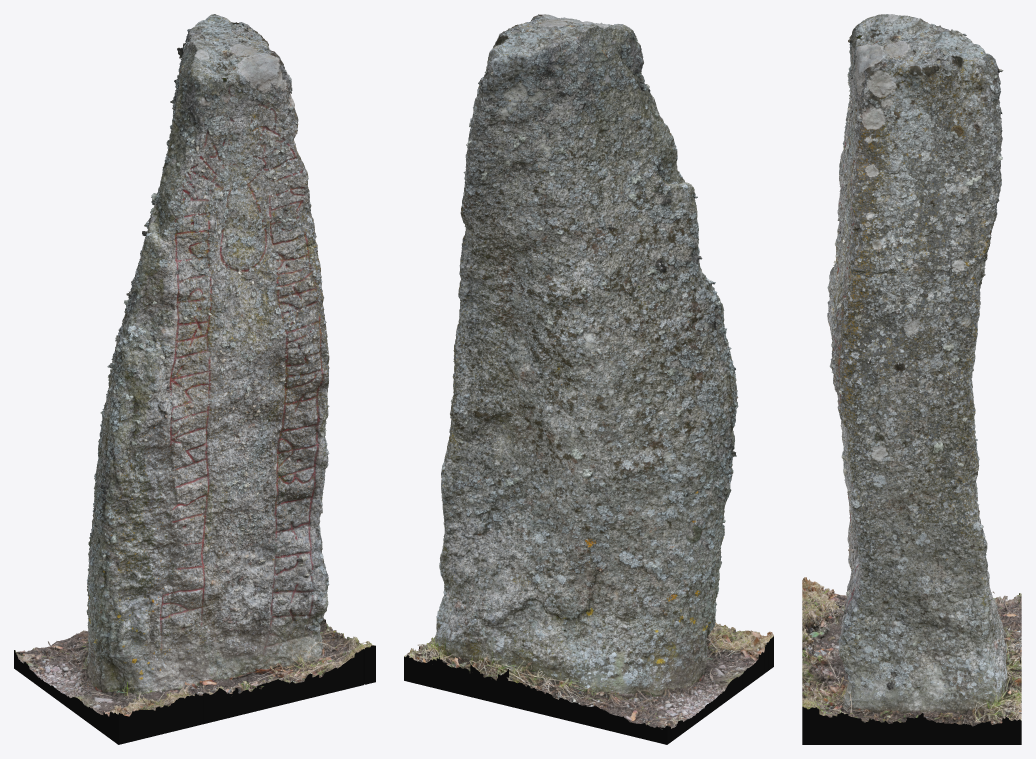
The model's file is runestone_og_202_mantorp_sweden.glb.
3 views of the same model, side by side, from view 1: azimuth 30°, elevation 25°; view 2: azimuth 150°, elevation 25°; view 3: azimuth 270°, elevation 25° (orthographic). The views are drawn at different scales.
Visible parts, largest first — view 1: Og202_Og202_0, Og202_Og2022_0, Og202_Og2021_0, Og202_Base_0; view 2: Og202_Og2021_0, Og202_Og202_0, Og202_Og2022_0, Og202_Base_0; view 3: Og202_Og2022_0, Og202_Og202_0, Og202_Og2021_0, Og202_Base_0.
Part boxes in pixels (box(x1,y1,x2,y2)): Og202_Og202_0: box(15, 14, 374, 716); Og202_Og2022_0: box(24, 17, 371, 716); Og202_Og2021_0: box(22, 22, 367, 714); Og202_Base_0: box(14, 621, 375, 744); Og202_Og2021_0: box(404, 18, 773, 725); Og202_Og202_0: box(406, 14, 768, 729); Og202_Og2022_0: box(409, 17, 767, 724); Og202_Base_0: box(404, 630, 773, 744); Og202_Og2022_0: box(802, 14, 1021, 723); Og202_Og202_0: box(802, 27, 1021, 726); Og202_Og2021_0: box(802, 19, 1021, 723); Og202_Base_0: box(802, 593, 1021, 744).
Bounding box in the file's own units: 0.1614 × 0.3782 × 0.1134.
Materials: 4 (3 with a texture image).
